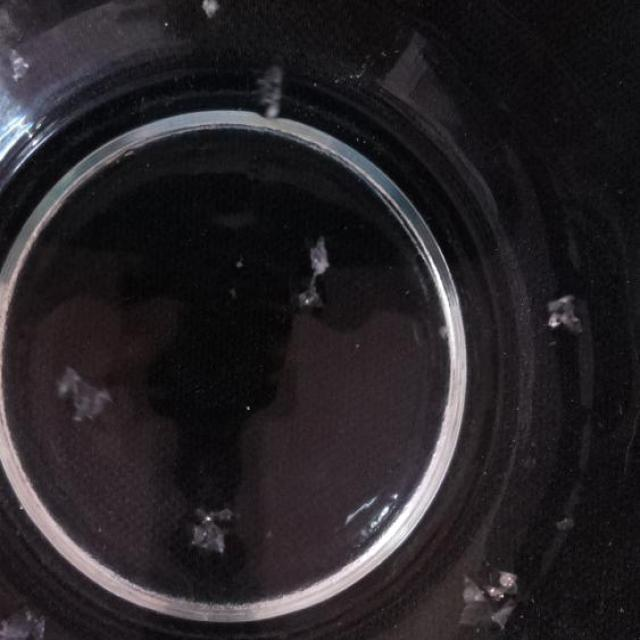fiber: (454, 560, 528, 639), (48, 362, 114, 440), (178, 505, 240, 571), (534, 280, 588, 347), (298, 229, 332, 332), (254, 50, 294, 132), (0, 602, 59, 639)
